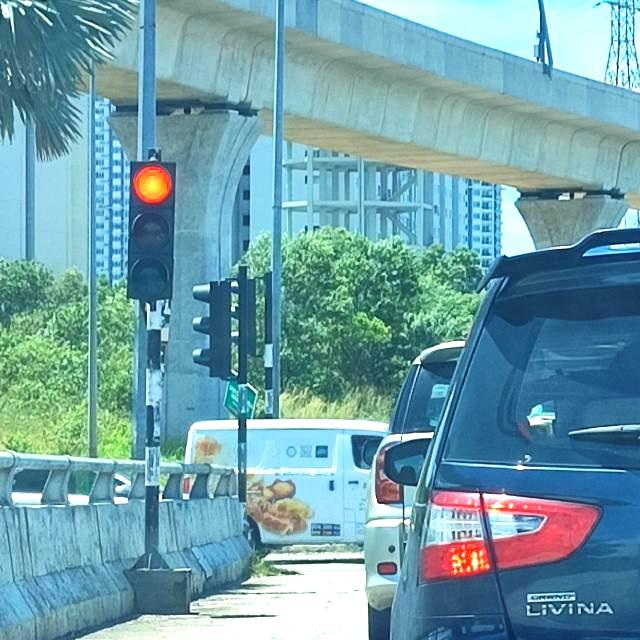Red: (124, 160, 176, 302)
